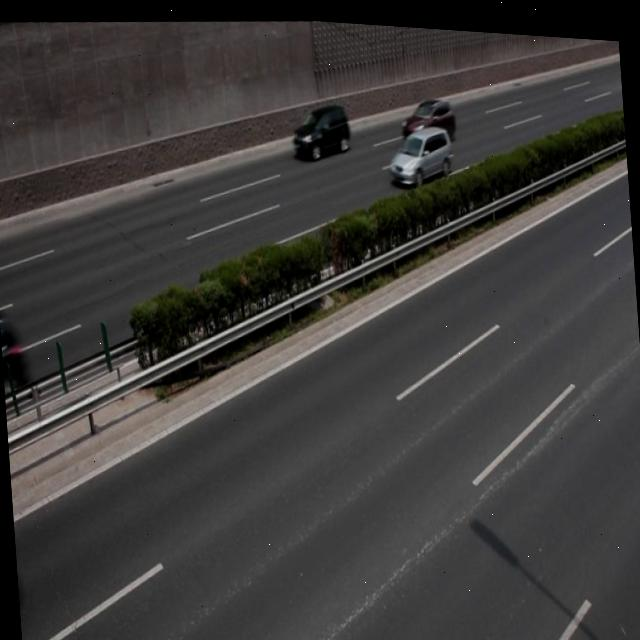car: (386, 116, 454, 189), (288, 99, 350, 158), (397, 87, 454, 146)
